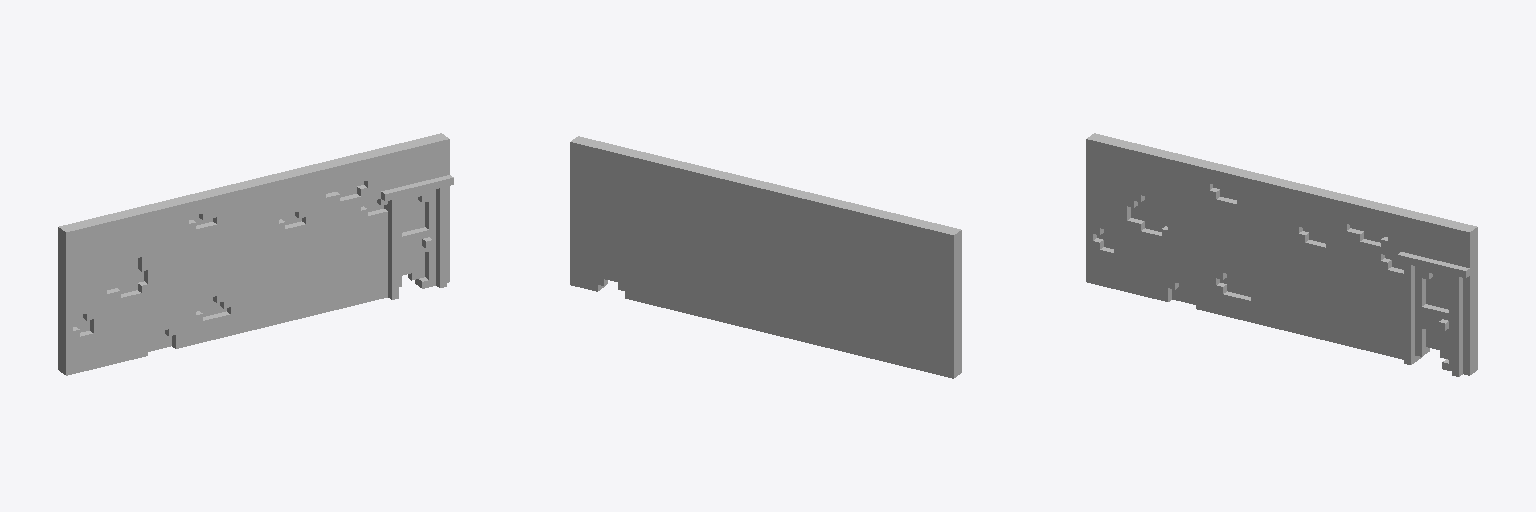
The model's file is Wall.obj.
3 renders of one model, left to right at view 1: azimuth 30°, elevation 25°; view 2: azimuth 150°, elevation 25°; view 3: azimuth 330°, elevation 25°, orthographic.
Parts seen in each view (by area): view 1: object 1; view 2: object 1; view 3: object 1.
Part boxes in pixels (x1,y1,x2,y2): object 1: (58,133,453,375); object 1: (570,136,961,378); object 1: (1086,133,1477,376).
Size of the model in its own units: 5.6 by 2 by 0.3.